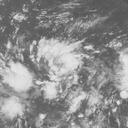cyclone: (38, 36, 88, 102)
